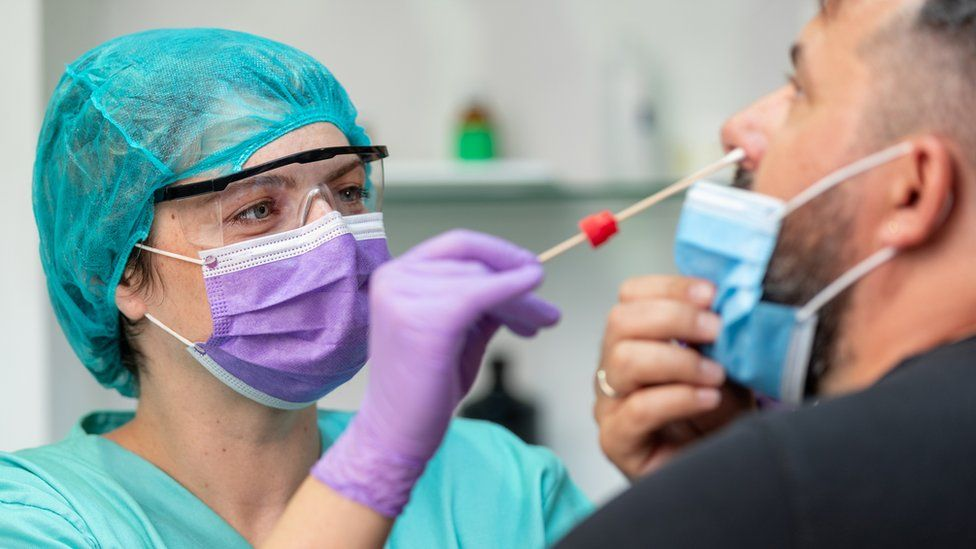with_incorrect_mask: (690, 33, 954, 317)
with_mask: (198, 135, 377, 349)
